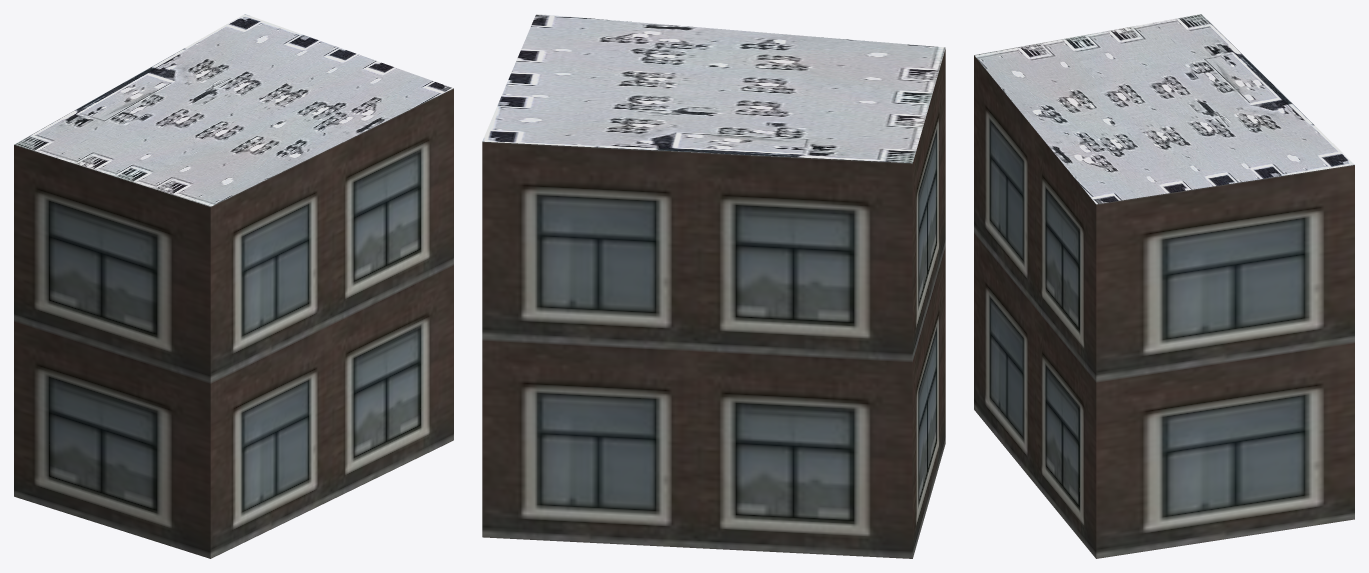
The model's file is ResTex__2749.fbx.
3 views of the same model, side by side, from view 1: azimuth 30°, elevation 25°; view 2: azimuth 150°, elevation 25°; view 3: azimuth 270°, elevation 25° (orthographic). The views are drawn at different scales.
Parts seen in each view (by area): view 1: CityEngineMaterial_16_m, CityEngineMaterial_15_m; view 2: CityEngineMaterial_16_m, CityEngineMaterial_15_m; view 3: CityEngineMaterial_16_m, CityEngineMaterial_15_m.
Boxes of the visible parts, x1,y1,x2,y2 form: CityEngineMaterial_16_m: [14, 88, 453, 558]; CityEngineMaterial_15_m: [14, 14, 453, 206]; CityEngineMaterial_16_m: [482, 49, 945, 558]; CityEngineMaterial_15_m: [482, 14, 945, 163]; CityEngineMaterial_16_m: [974, 55, 1354, 558]; CityEngineMaterial_15_m: [974, 14, 1354, 204].
Size of the model in its own units: 6.91 by 6 by 5.84.
Materials: 2 (2 with a texture image).
